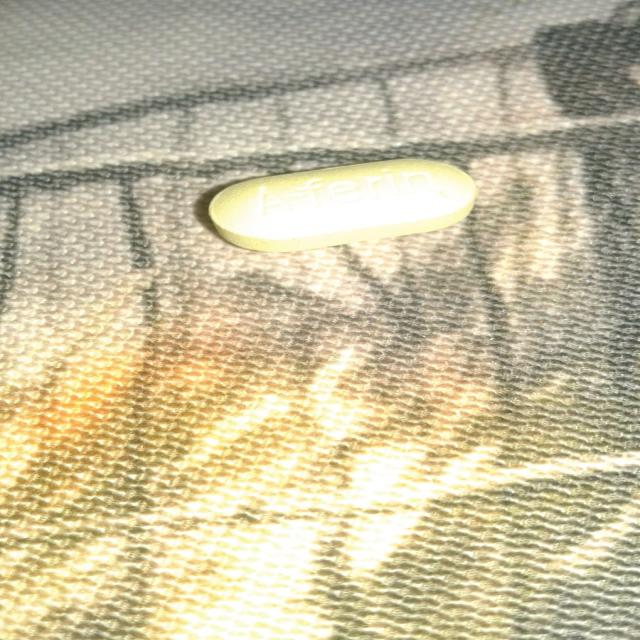pills: (183, 160, 522, 254)
